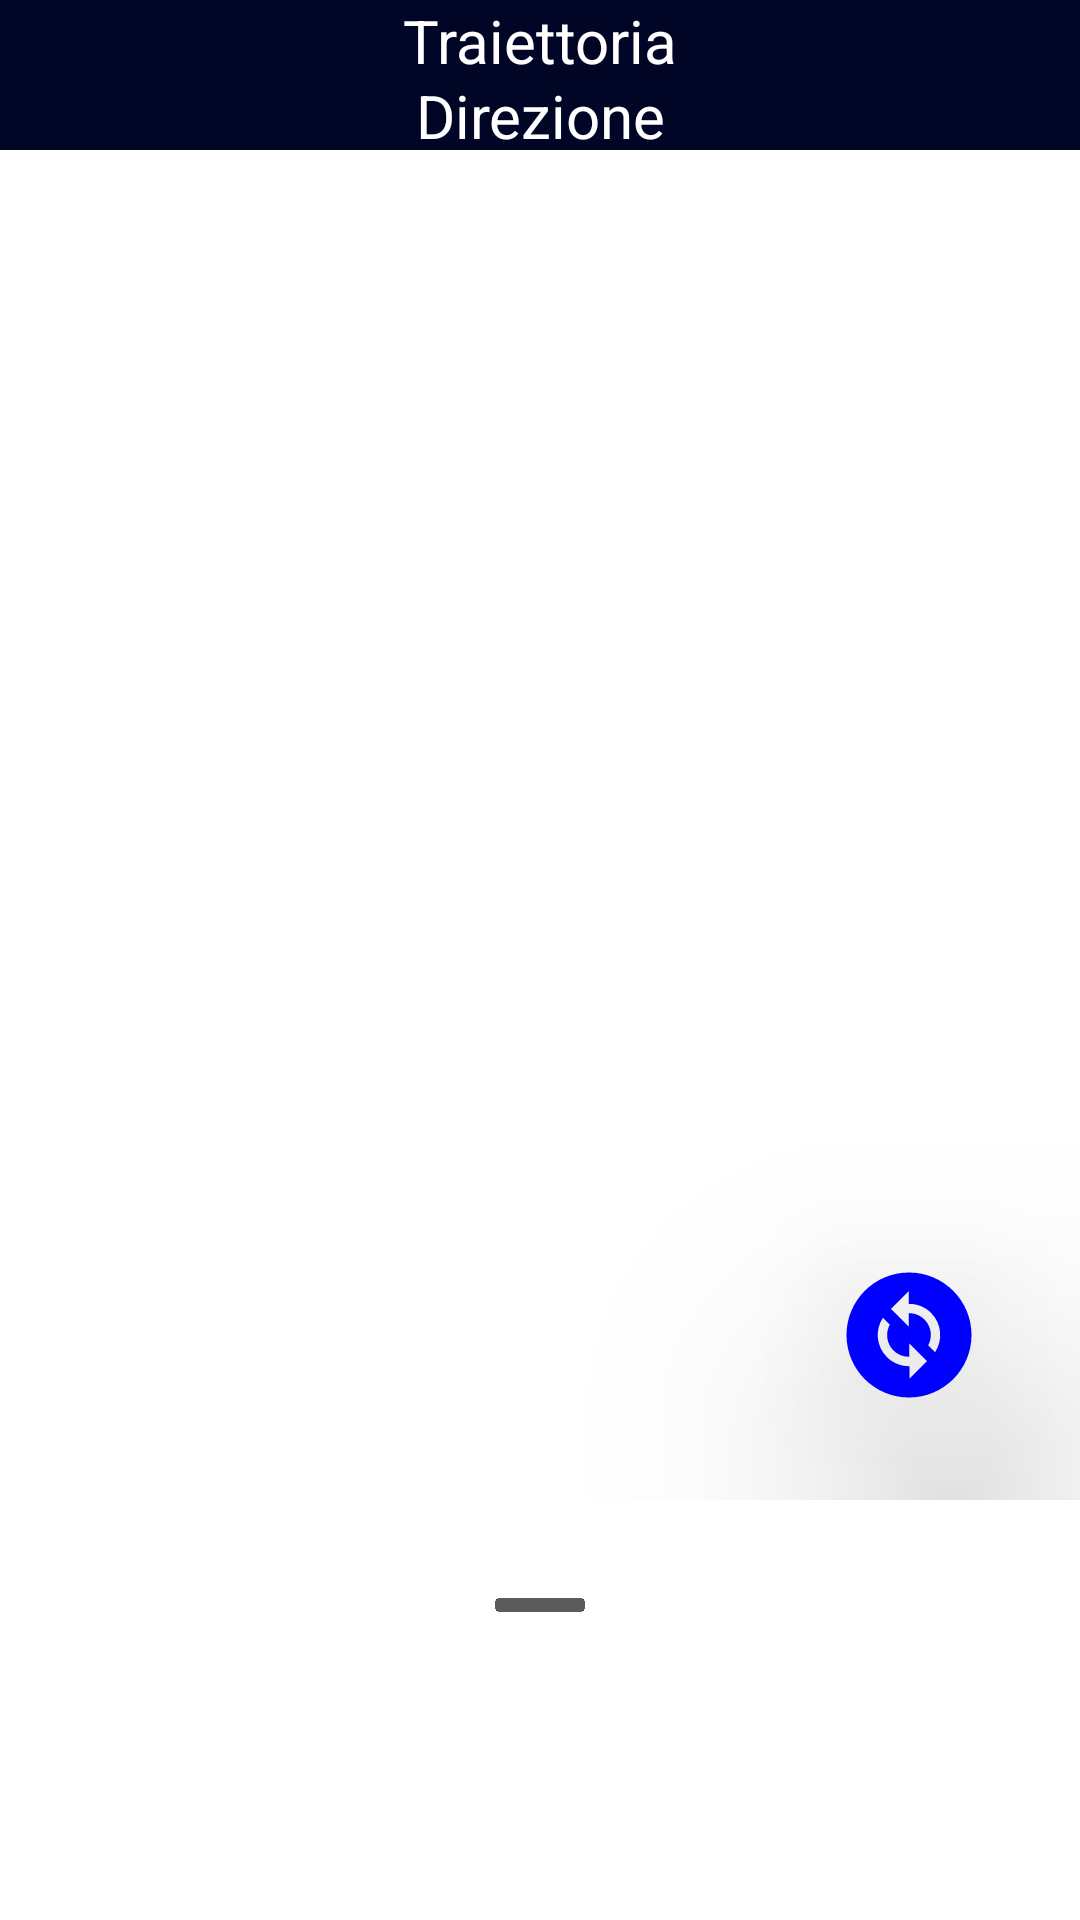

Icon bounding boxes for this 1080 × 1920 phone screenshot, format (x1,y1,x2,y2):
change direction: (846,1272,972,1398)
